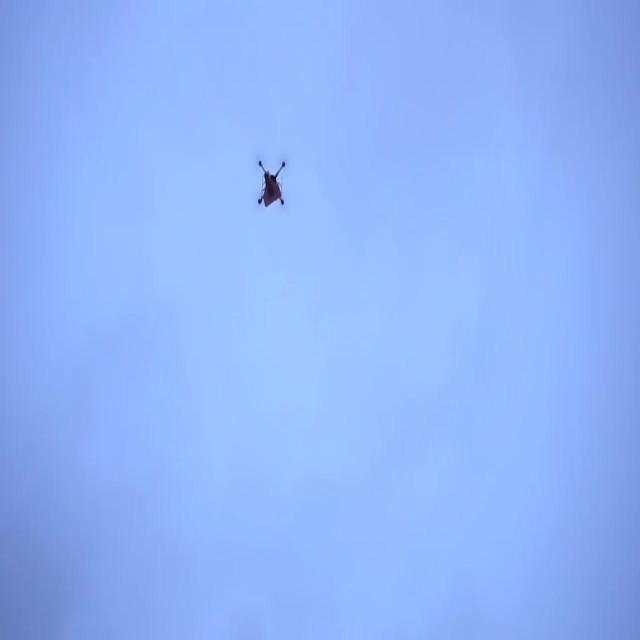drone: (256, 154, 285, 208)
